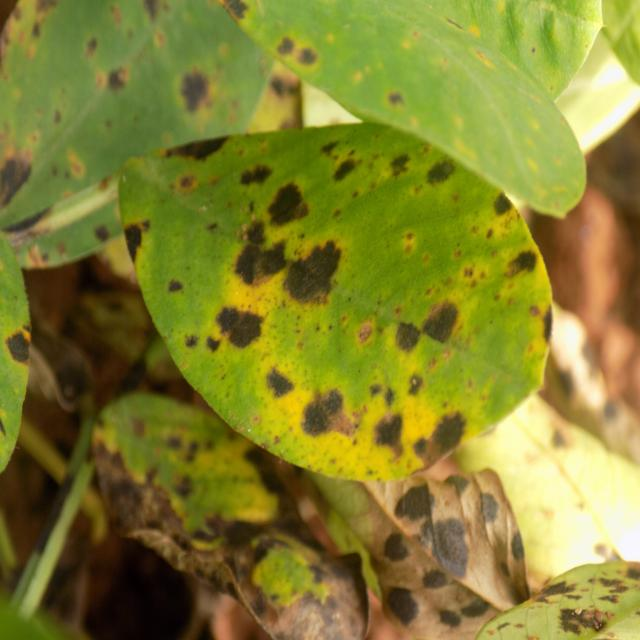Ground nut_tikka leaf spot: (120, 114, 550, 477)
